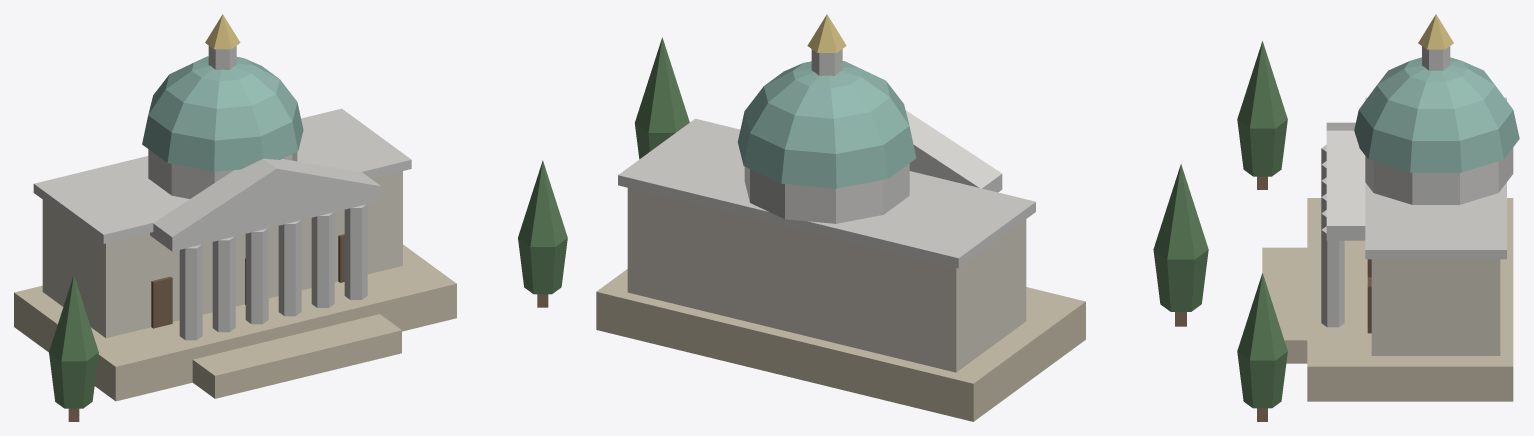
File: academy.glb
3 renders of one model, left to right at view 1: azimuth 30°, elevation 25°; view 2: azimuth 150°, elevation 25°; view 3: azimuth 270°, elevation 25°, orthographic. The views are drawn at different scales.
Visible parts, largest first — view 1: LOD0; view 2: LOD0; view 3: LOD0.
Part boxes in pixels (left/top/right/bottom): LOD0: left=14, top=14, right=567, bottom=421; LOD0: left=596, top=14, right=1208, bottom=421; LOD0: left=1237, top=14, right=1519, bottom=421.
Size of what is drawn, in the model's own units: 1.12 by 0.6344 by 0.5354.
